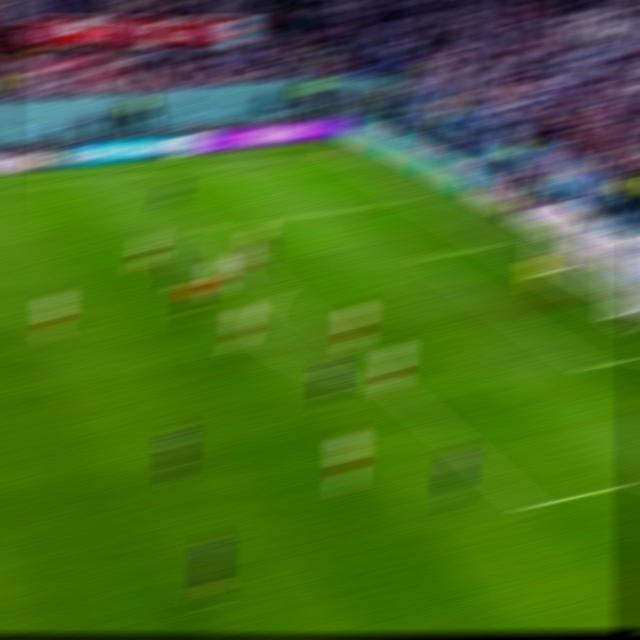bigarea_bottom_inner: (518, 499, 541, 513)
bigarea_top_inner: (197, 226, 216, 233)
bigarea_top_outter: (401, 196, 422, 203)
corner: (320, 151, 342, 158)
smallarea_bottom_inner: (577, 360, 600, 373)
smallarea_top_inner: (410, 253, 437, 266)
smallarea_top_outter: (481, 243, 503, 253)
top_arc_area_intersection: (268, 285, 292, 296)
